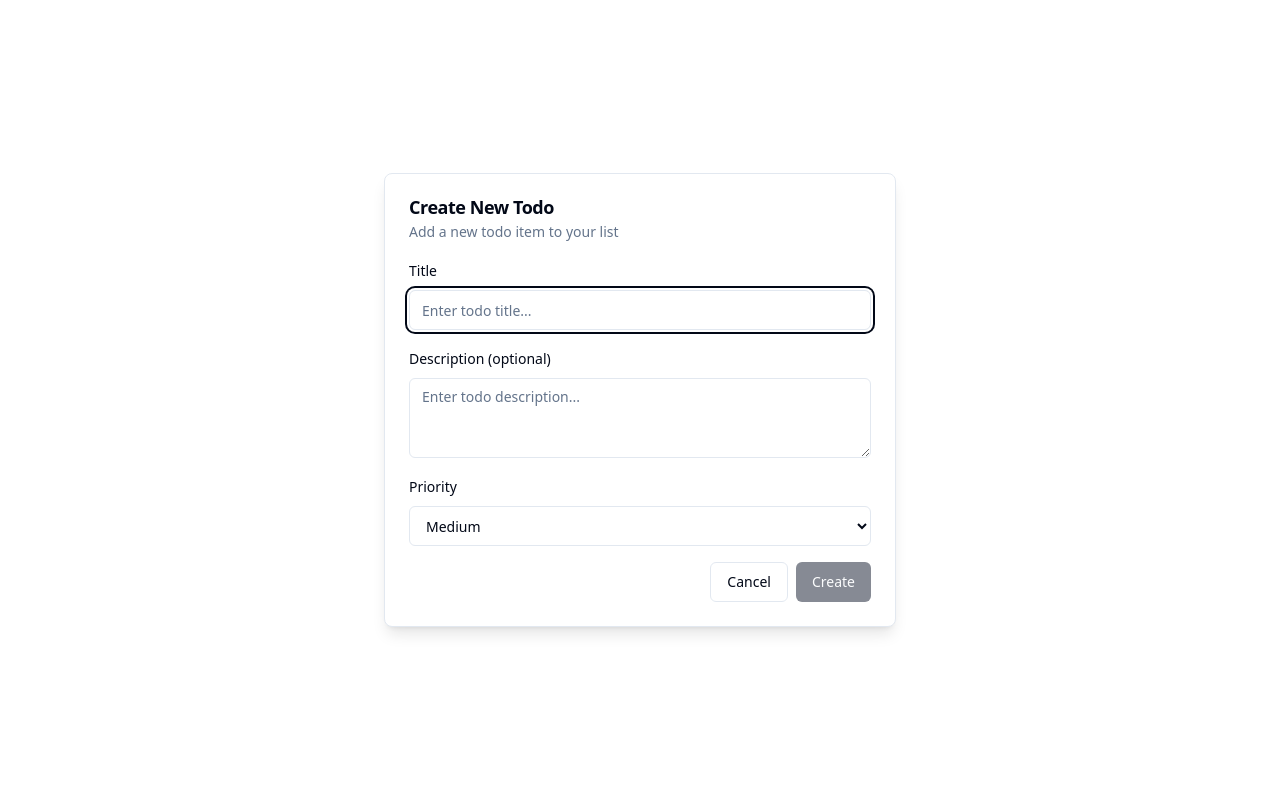
TodoDialog › Create Mode › should enable Create button when title is not empty
Expected: the button "Create" is disabled, left=796, top=562, right=871, bottom=602
Type "New Todo" into the field labelled "Title" at (640, 310), box left=409, top=290, right=871, bottom=330
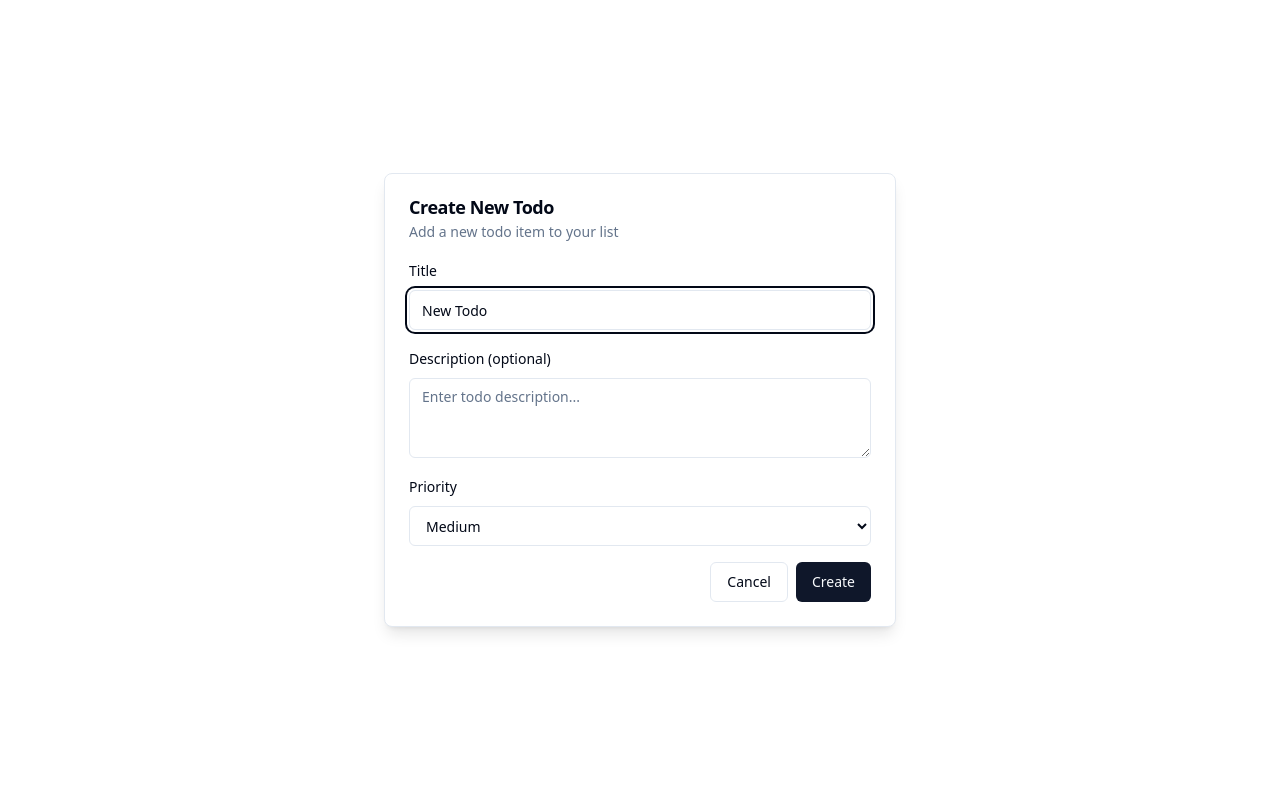
Expected: the button "Create" is enabled, left=796, top=562, right=871, bottom=602
